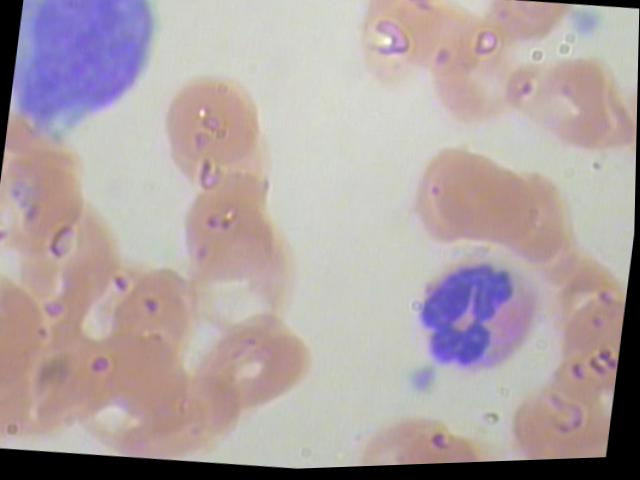Platelets: (562, 8, 602, 51), (404, 363, 442, 406)
Red Blood Cells: (1, 200, 131, 333), (414, 31, 553, 146), (420, 154, 559, 269), (472, 173, 611, 288), (148, 70, 287, 185), (156, 182, 295, 297), (189, 315, 328, 430), (501, 52, 638, 168), (107, 266, 213, 382), (540, 287, 628, 400), (508, 380, 614, 464), (0, 276, 66, 405)
White Blood Cells: (5, 0, 169, 159), (402, 246, 557, 387)
